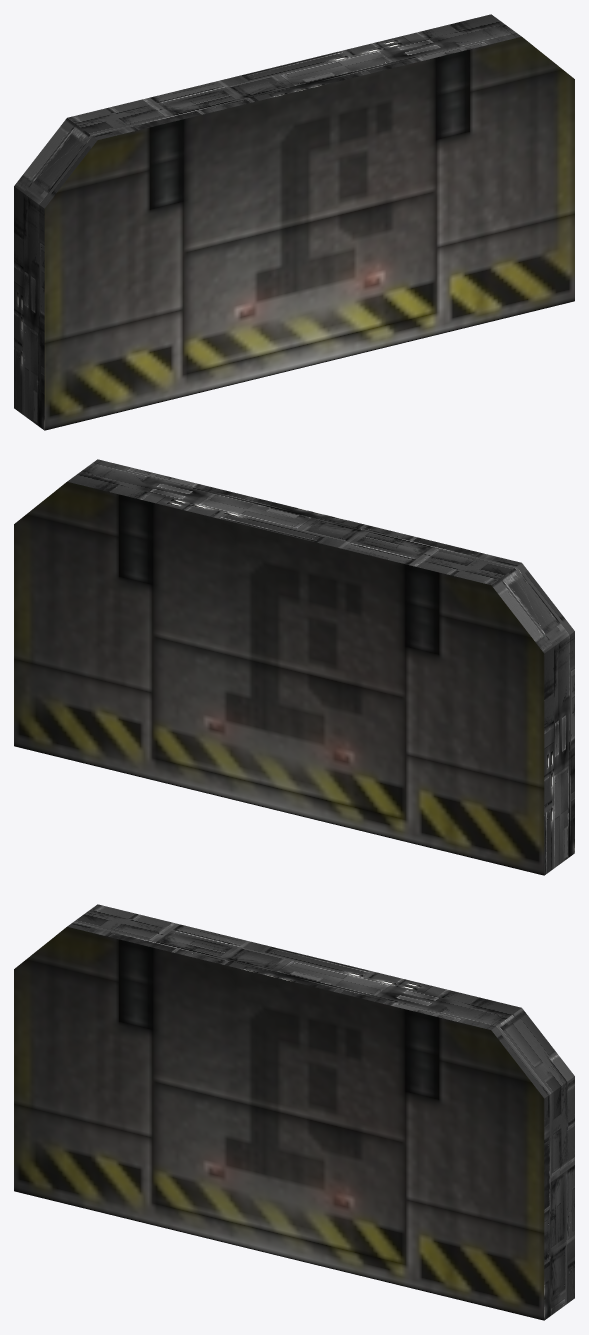
Rendered from 00072_gate.obj.
3 views of the same model, one above another, from view 1: azimuth 30°, elevation 25°; view 2: azimuth 150°, elevation 25°; view 3: azimuth 330°, elevation 25° (orthographic).
Parts seen in each view (by area): view 1: B_gate; view 2: B_gate; view 3: B_gate.
Boxes of the visible parts, left/top/right/bottom form: B_gate: left=14, top=14, right=574, bottom=430; B_gate: left=14, top=459, right=574, bottom=875; B_gate: left=14, top=904, right=574, bottom=1320.
Bounding box in the file's own units: 138 × 68.96 × 13.79.
Materials: 2 (2 with a texture image).
